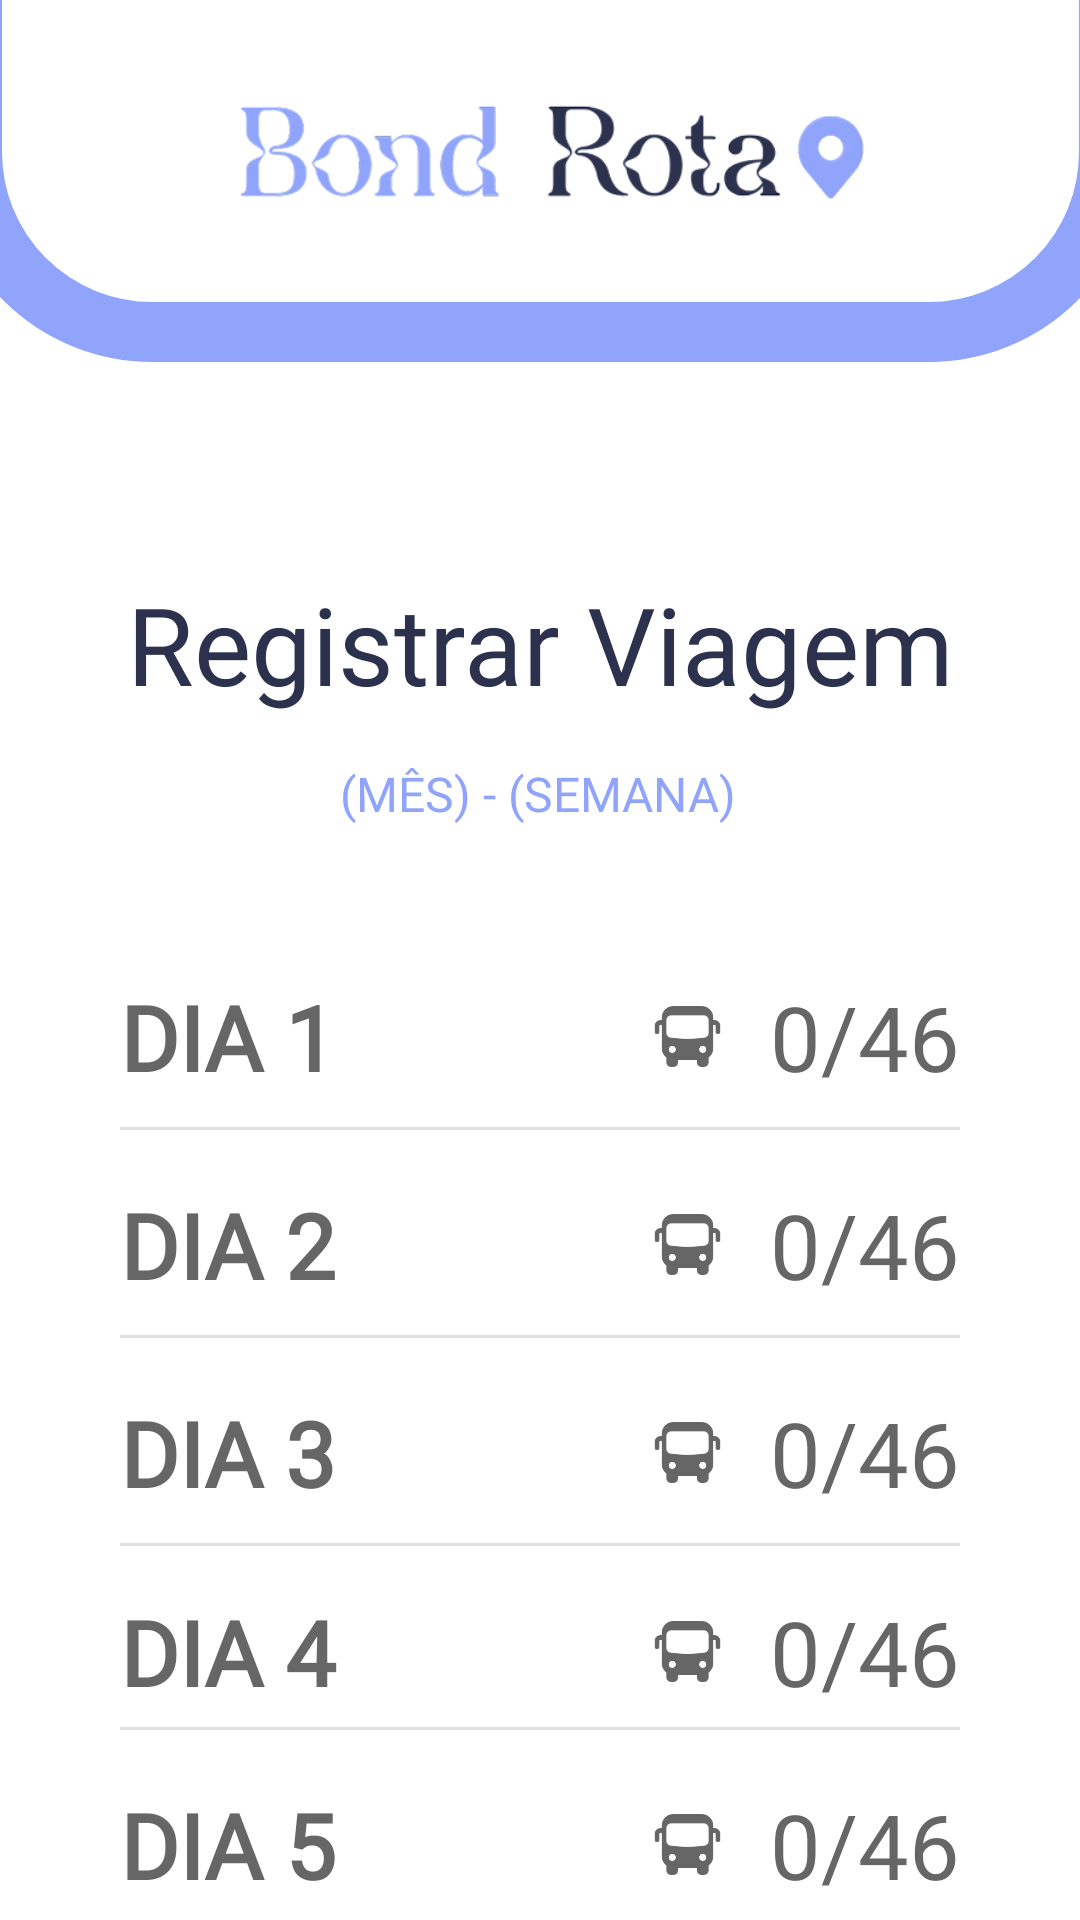

Icons on this 1080 x 1920 Android screen, each with its box as (x1, y1, x2, y2):
onibus: (654, 1006, 721, 1067), (654, 1214, 721, 1275), (654, 1422, 721, 1483), (654, 1621, 721, 1682), (654, 1814, 721, 1875)
